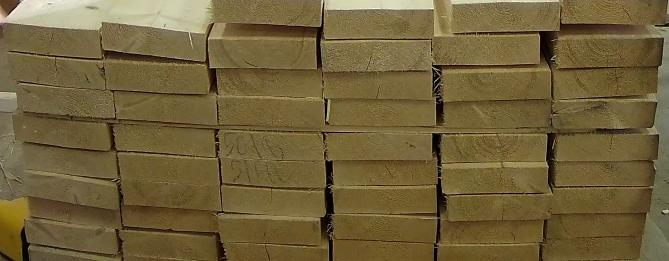Wood-Plank: (102, 22, 207, 63), (218, 96, 325, 130), (0, 23, 101, 59), (449, 0, 562, 32), (23, 170, 118, 208), (7, 51, 104, 88), (442, 161, 549, 194), (554, 65, 660, 98), (431, 36, 540, 68), (321, 40, 433, 71), (113, 122, 215, 156), (114, 92, 216, 126), (209, 37, 317, 69), (25, 217, 118, 254), (446, 188, 553, 220), (18, 114, 112, 150), (221, 184, 326, 216), (558, 36, 665, 67), (17, 84, 114, 118), (118, 152, 219, 184), (105, 61, 206, 93), (22, 144, 116, 178), (218, 213, 321, 244), (325, 9, 434, 38), (219, 130, 324, 160), (443, 70, 551, 99), (334, 156, 438, 186), (122, 178, 219, 210), (442, 133, 549, 162), (119, 229, 218, 260), (323, 70, 432, 98), (555, 100, 656, 130), (444, 100, 552, 128), (441, 215, 545, 244), (333, 185, 437, 214), (327, 99, 437, 126), (216, 68, 321, 96), (221, 160, 325, 188), (325, 133, 432, 160), (27, 197, 120, 228), (212, 0, 322, 26), (553, 186, 654, 214), (334, 215, 438, 242), (552, 160, 656, 186), (556, 134, 658, 160), (121, 205, 218, 232), (562, 0, 668, 24), (546, 214, 648, 238), (543, 236, 642, 260), (334, 240, 434, 261), (225, 242, 331, 261), (438, 242, 541, 261), (28, 246, 116, 261)
